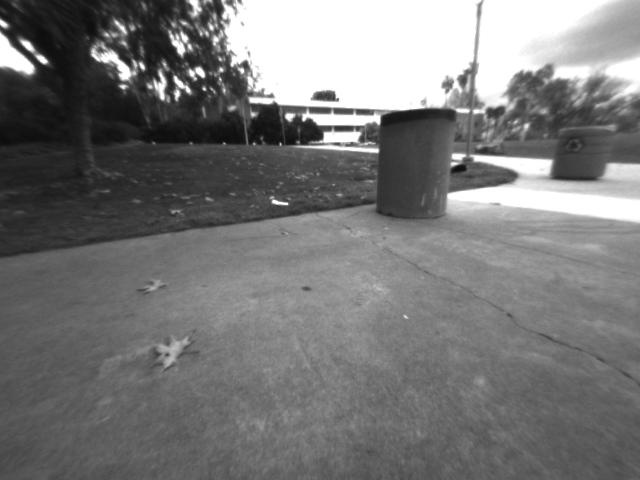trashcan: (368, 107, 465, 226), (555, 120, 617, 196)
